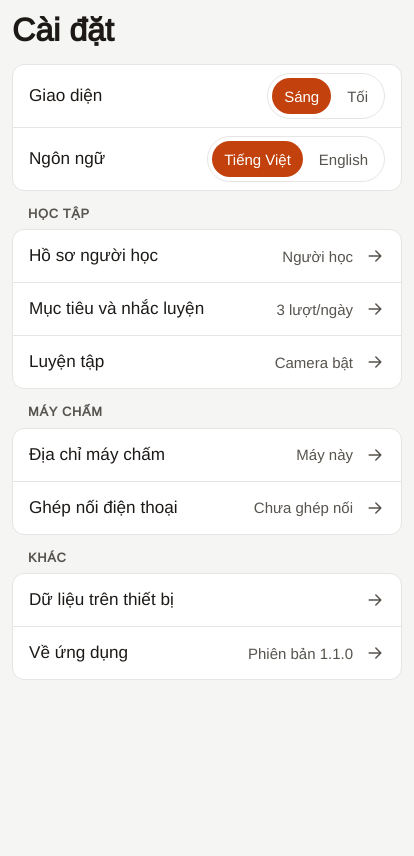
Scenario: SettingsScreen › switches the interface language and remembers it
This screenshot has width=414, height=856.
Click the tab "English": (343, 159) [307,141,380,177]
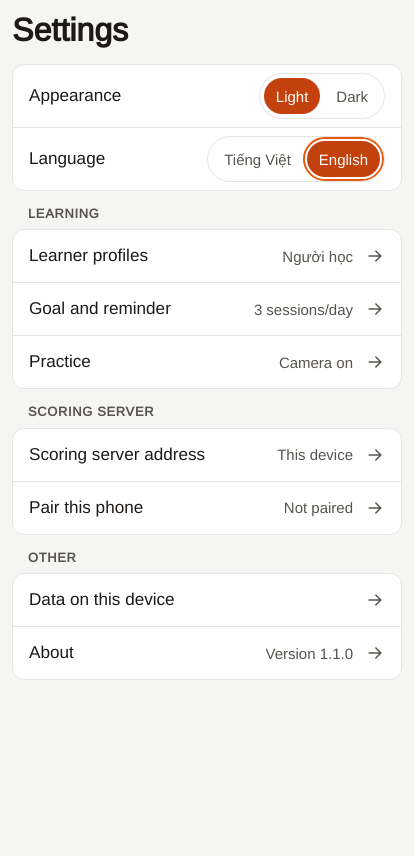
Result: the heading "Settings" is shown at [12,12,128,48]
Click the tab "Tiếng Việt": (258, 159) [212,141,303,177]
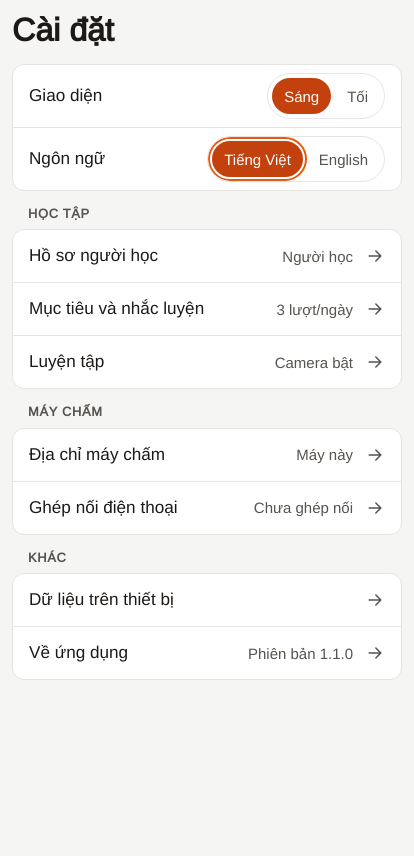
Result: the heading "Cài đặt" is shown at [12,12,114,48]
